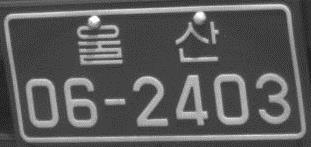-: (101, 94, 129, 110)
0: (210, 71, 250, 127), (24, 76, 60, 130)
2: (130, 73, 171, 130)
3: (254, 71, 290, 126)
4: (174, 72, 211, 128)
6: (62, 74, 98, 129)
울산_D: (75, 19, 221, 68)
